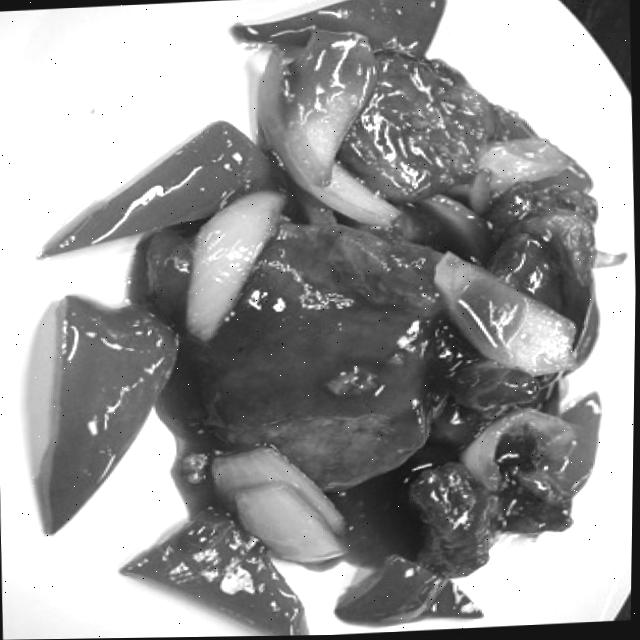猪肉菜式: (25, 0, 640, 640)
